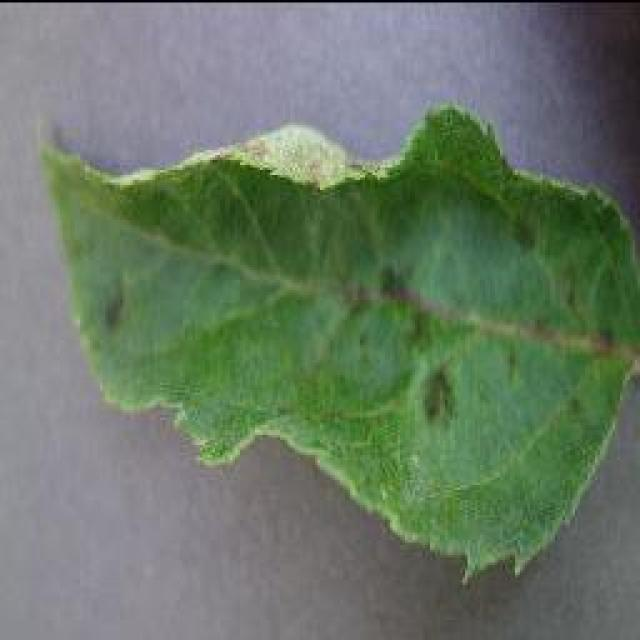apple scab disease: (35, 100, 637, 582)
